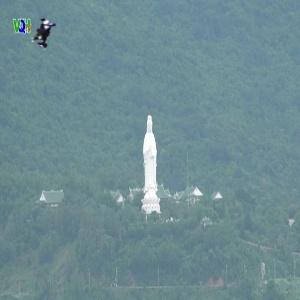drone: (26, 9, 78, 61)
